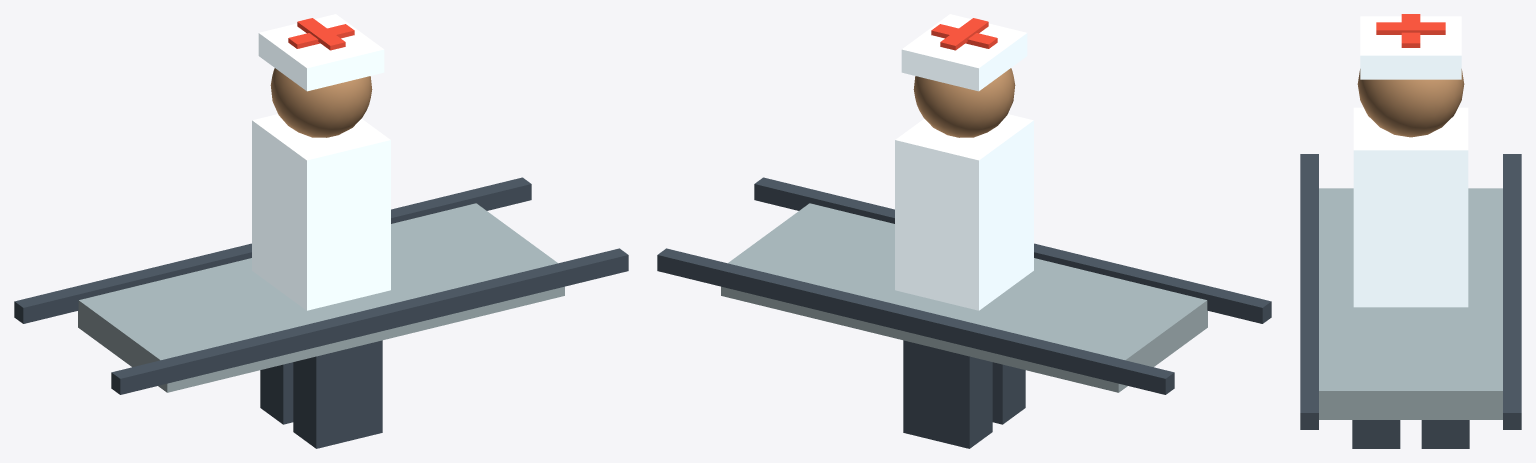
Rendered from medic.glb.
The picture shows the model from 3 angles, left to right: view 1: azimuth 30°, elevation 25°; view 2: azimuth 150°, elevation 25°; view 3: azimuth 270°, elevation 25°; orthographic projection. The views are drawn at different scales.
Visible parts, largest first — view 1: Stretcher, Medic tunic, Stretcher handle, Medic boot, Stretcher handle.001, Medic cap, Medic head, Medic boot.001, Red cross vertical, Red cross horizontal; view 2: Stretcher, Medic tunic, Stretcher handle.001, Medic boot.001, Stretcher handle, Medic cap, Medic head, Medic boot, Red cross vertical, Red cross horizontal; view 3: Stretcher, Medic tunic, Medic cap, Stretcher handle, Stretcher handle.001, Medic head, Medic boot, Medic boot.001, Red cross vertical, Red cross horizontal.
Part boxes in pixels (x1,y1,x2,y2): Stretcher: (78, 203, 564, 392); Medic tunic: (252, 114, 390, 310); Stretcher handle: (111, 248, 628, 394); Medic boot: (293, 340, 382, 448); Stretcher handle.001: (14, 177, 531, 323); Medic cap: (258, 14, 384, 91); Medic head: (270, 68, 372, 137); Medic boot.001: (260, 362, 293, 424); Red cross vertical: (297, 18, 345, 50); Red cross horizontal: (288, 24, 354, 48); Stretcher: (721, 203, 1207, 392); Medic tunic: (895, 114, 1033, 310); Stretcher handle.001: (657, 248, 1174, 394); Medic boot.001: (903, 340, 992, 448); Stretcher handle: (754, 177, 1271, 323); Medic cap: (901, 14, 1027, 91); Medic head: (913, 68, 1015, 137); Medic boot: (992, 362, 1025, 424); Red cross vertical: (940, 18, 988, 50); Red cross horizontal: (931, 24, 997, 48); Stretcher: (1319, 188, 1502, 419); Medic tunic: (1353, 107, 1468, 307); Medic cap: (1360, 16, 1461, 79); Stretcher handle: (1300, 154, 1318, 429); Stretcher handle.001: (1503, 154, 1521, 429); Medic head: (1357, 69, 1464, 137); Medic boot: (1352, 420, 1400, 448); Medic boot.001: (1421, 420, 1469, 448); Red cross vertical: (1376, 22, 1445, 34); Red cross horizontal: (1401, 14, 1420, 47).
Size of the model in its own units: 2.3 by 1.68 by 0.83.
